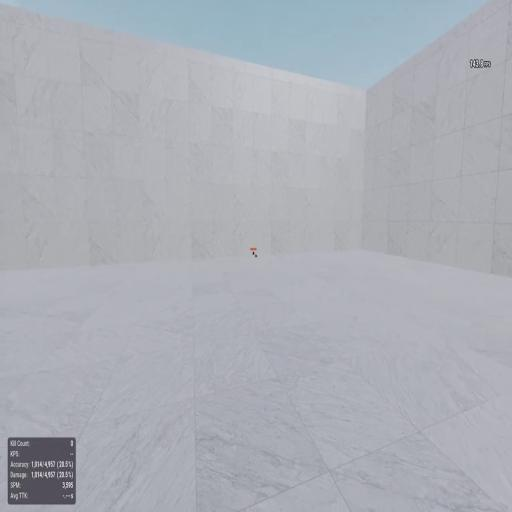Crosshair: (255, 254, 257, 258)
Target: (252, 251, 254, 255)
